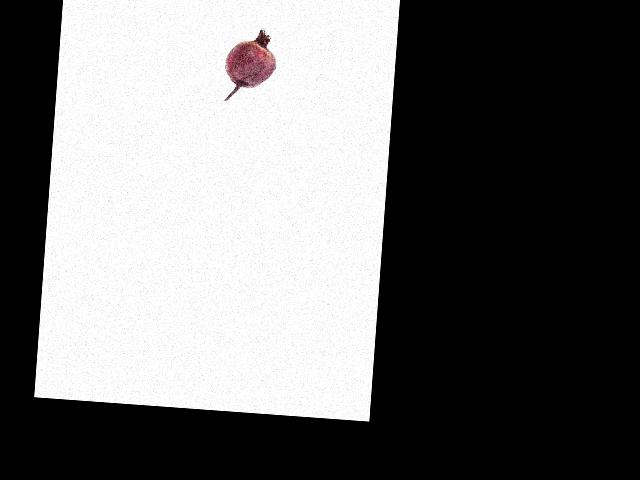beet: (222, 26, 278, 104)
